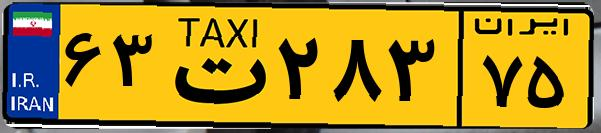2: (270, 28, 330, 110)
3: (385, 28, 445, 110), (110, 28, 158, 98)
5: (525, 38, 570, 115)
6: (57, 26, 110, 100)
7: (475, 38, 525, 113)
8: (330, 28, 385, 110)
ت: (158, 12, 270, 120)
